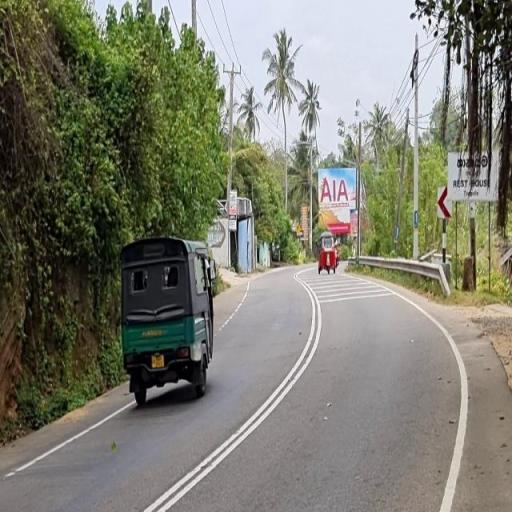double_white_line: (142, 277, 323, 510)
